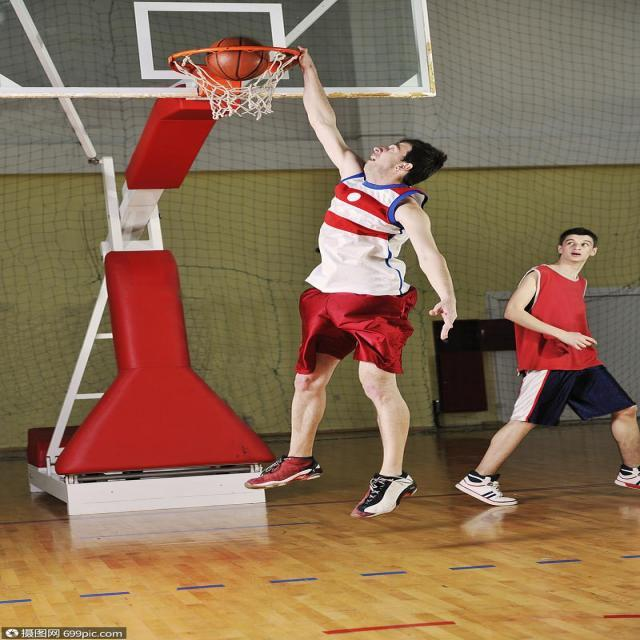rim: (204, 35, 269, 81)
